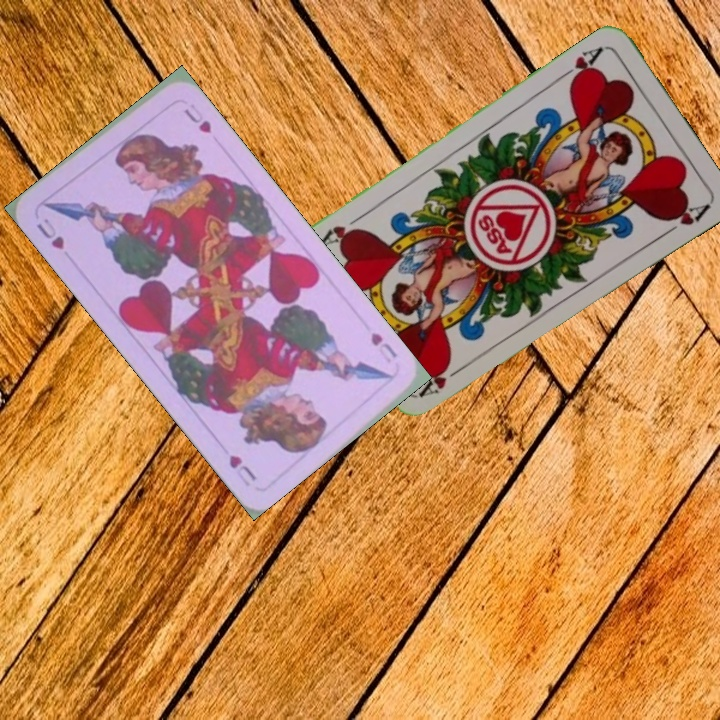HA: (556, 42, 607, 88), (416, 358, 470, 399)
HU: (32, 214, 67, 253), (366, 328, 400, 366)
